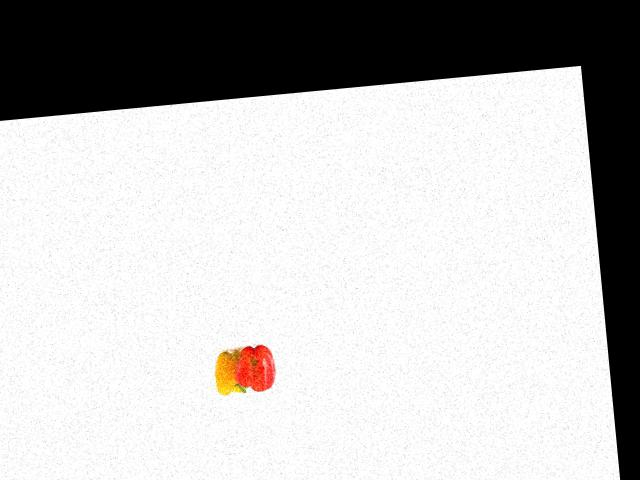bell_pepper: (211, 346, 252, 394)
